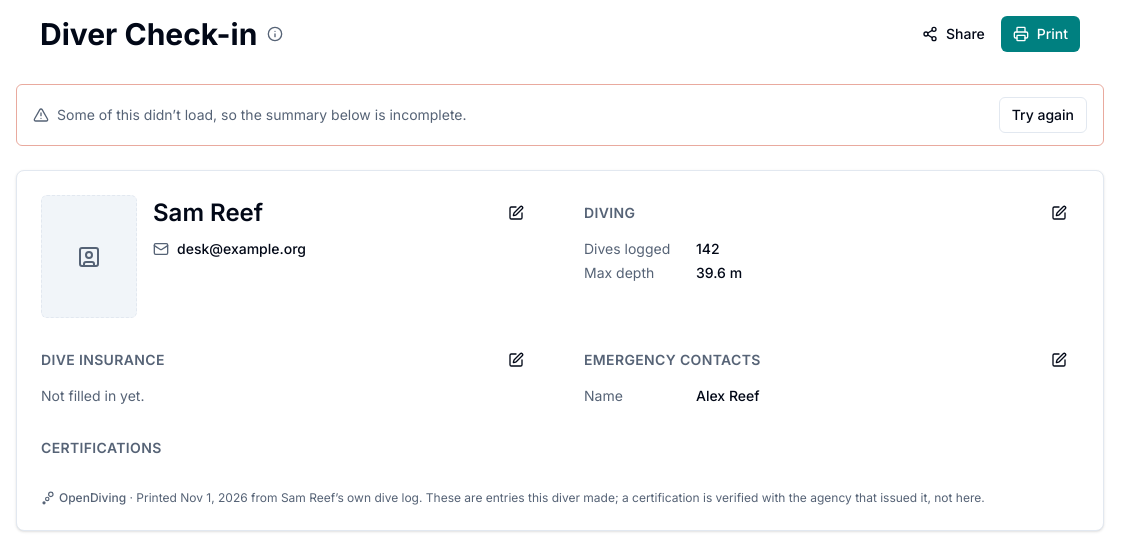
Scenario: CheckInPage › asks again on Try again
Click the button "Try again": (1043, 115) [999, 97, 1087, 133]
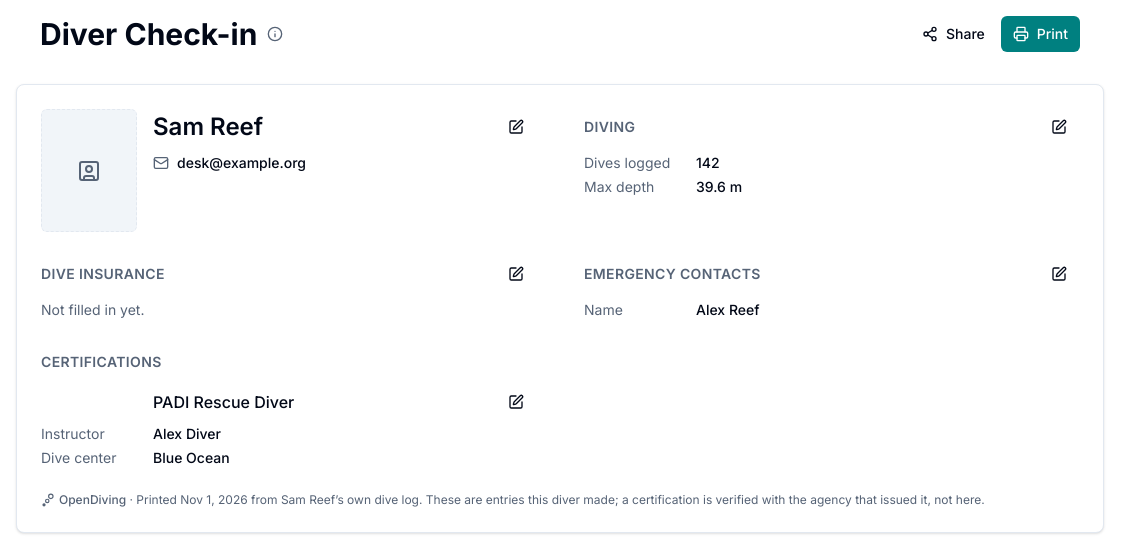
Expected: the text "PADI Rescue Diver" is shown, [153, 392, 294, 412]
Expected: the button "Try again" is gone
